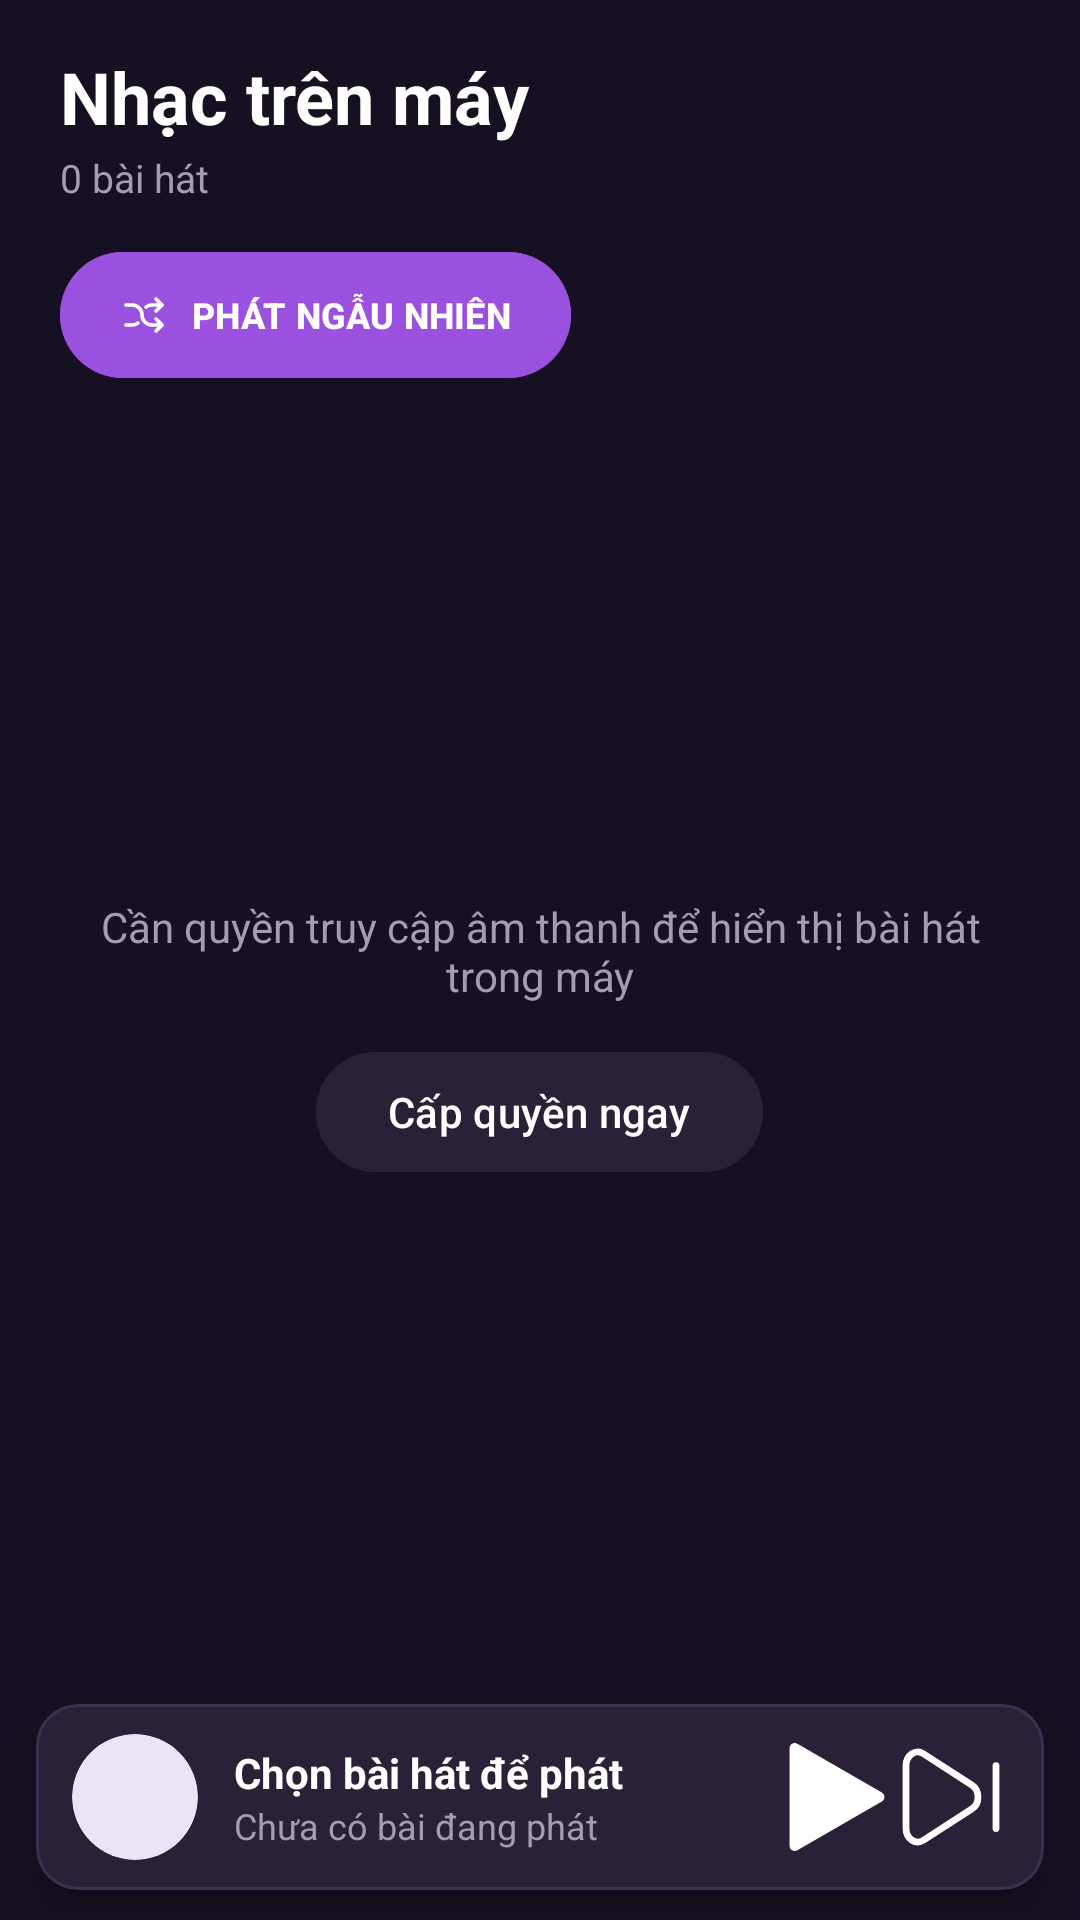

Icon bounding boxes for this 1080 × 1920 phone screenshot, format bbox=[x1, y1, x2, y2]:
next: bbox=[902, 1748, 1000, 1846]
play: bbox=[789, 1743, 885, 1851]
